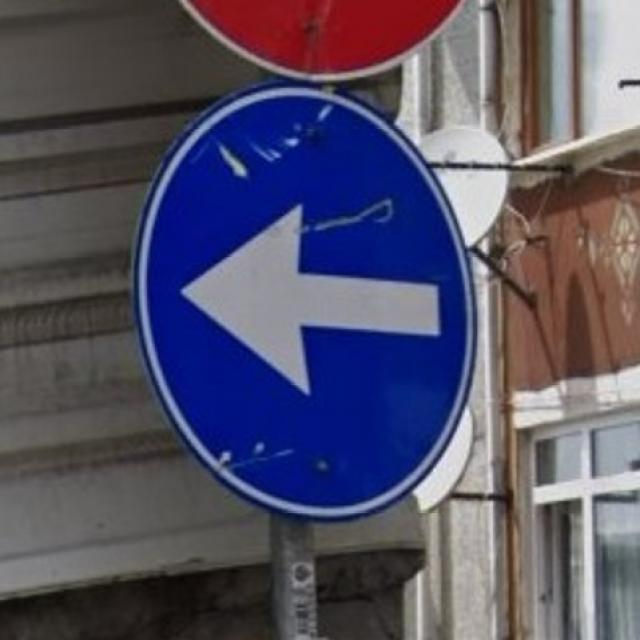Turn Left: (138, 74, 468, 510)
